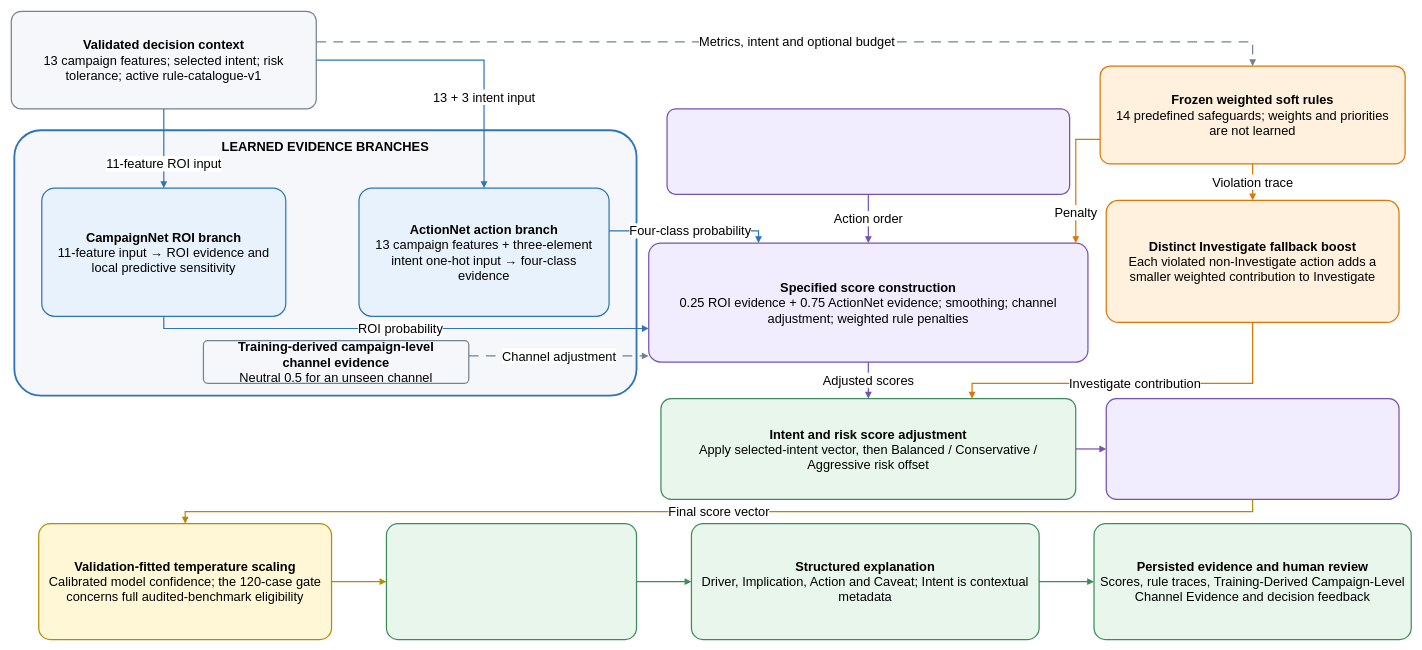
This 1422x650 diagram has some shape labels left out. The centre of each missing label's shape, as x and y in pixels:
"Bounded action set Increase | Maintain | Reduce | Investigate" belongs at pixel 868 151.
"Final action-score vector One score per bounded action" belongs at pixel 1252 449.
"Ranked recommendation Selected action, alternatives and confidence category" belongs at pixel 511 581.
